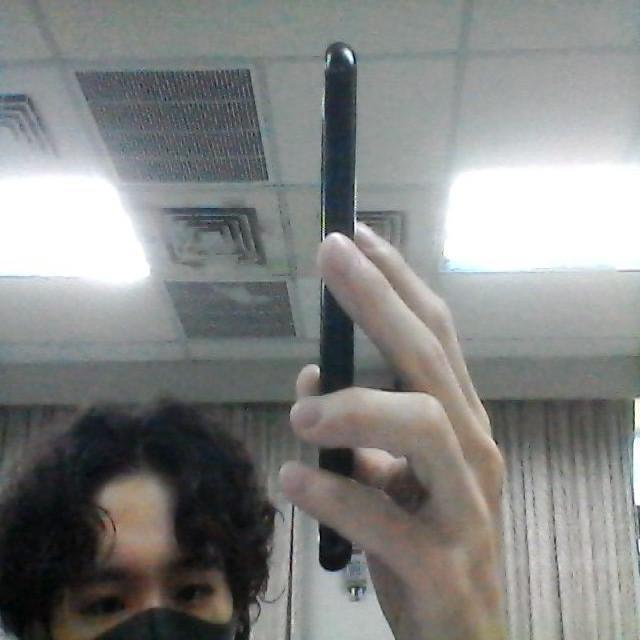Phone: (318, 32, 364, 576)
